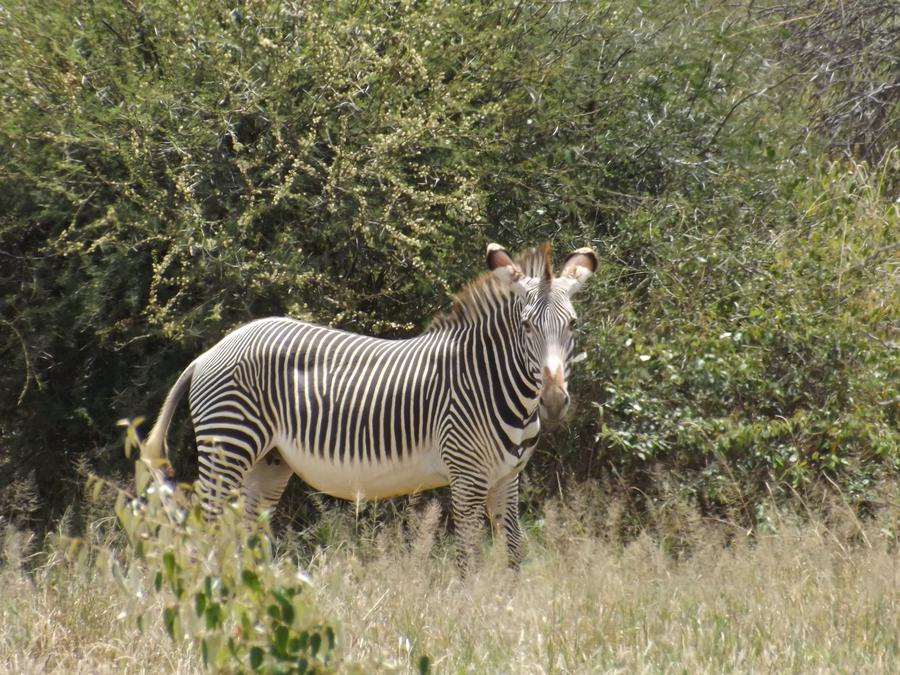zebra_grevys: (184, 298, 487, 485)
